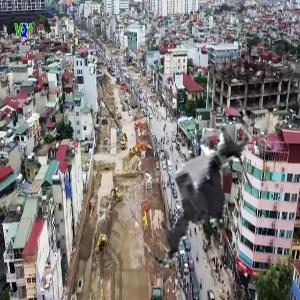drone: (124, 116, 287, 279)
